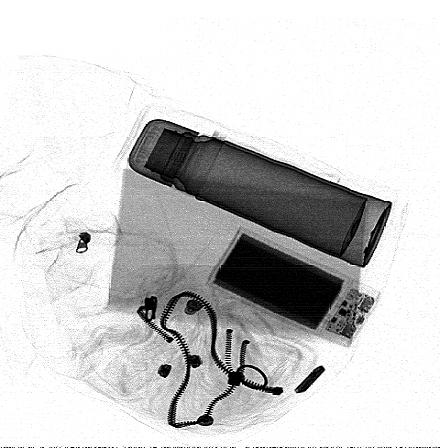Powerbank: (205, 227, 381, 349)
